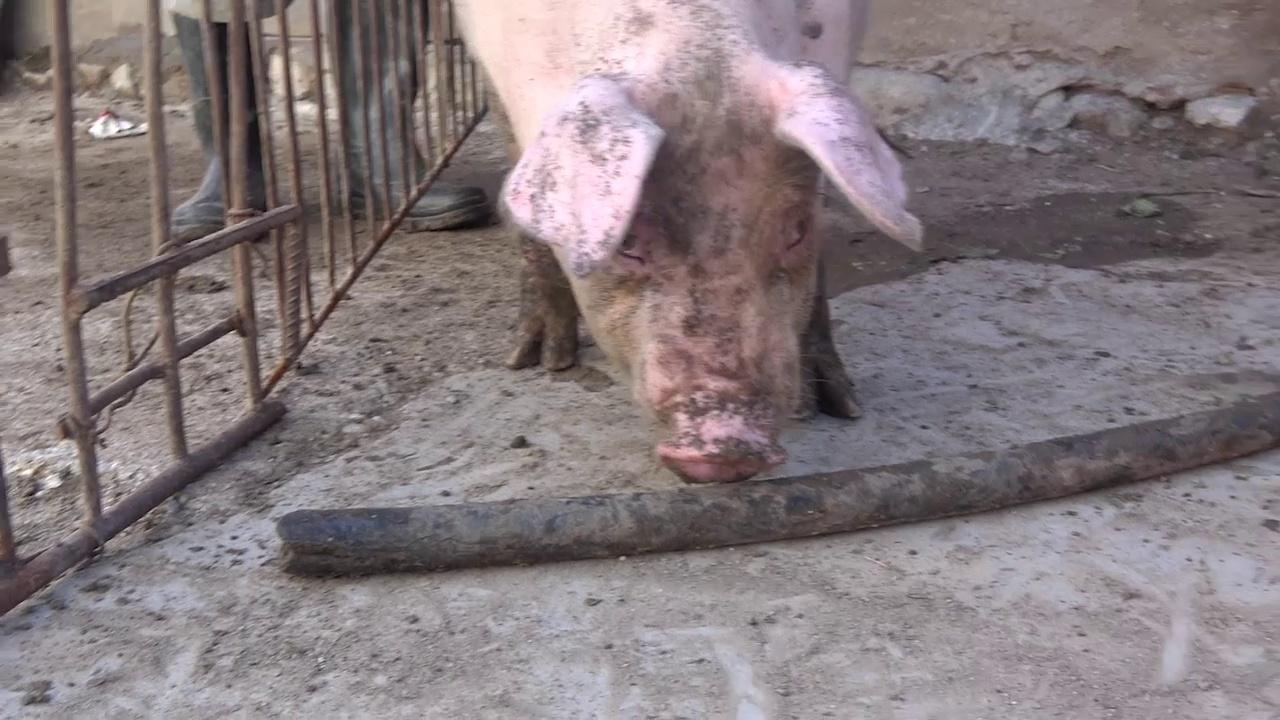Face: (489, 57, 930, 494)
